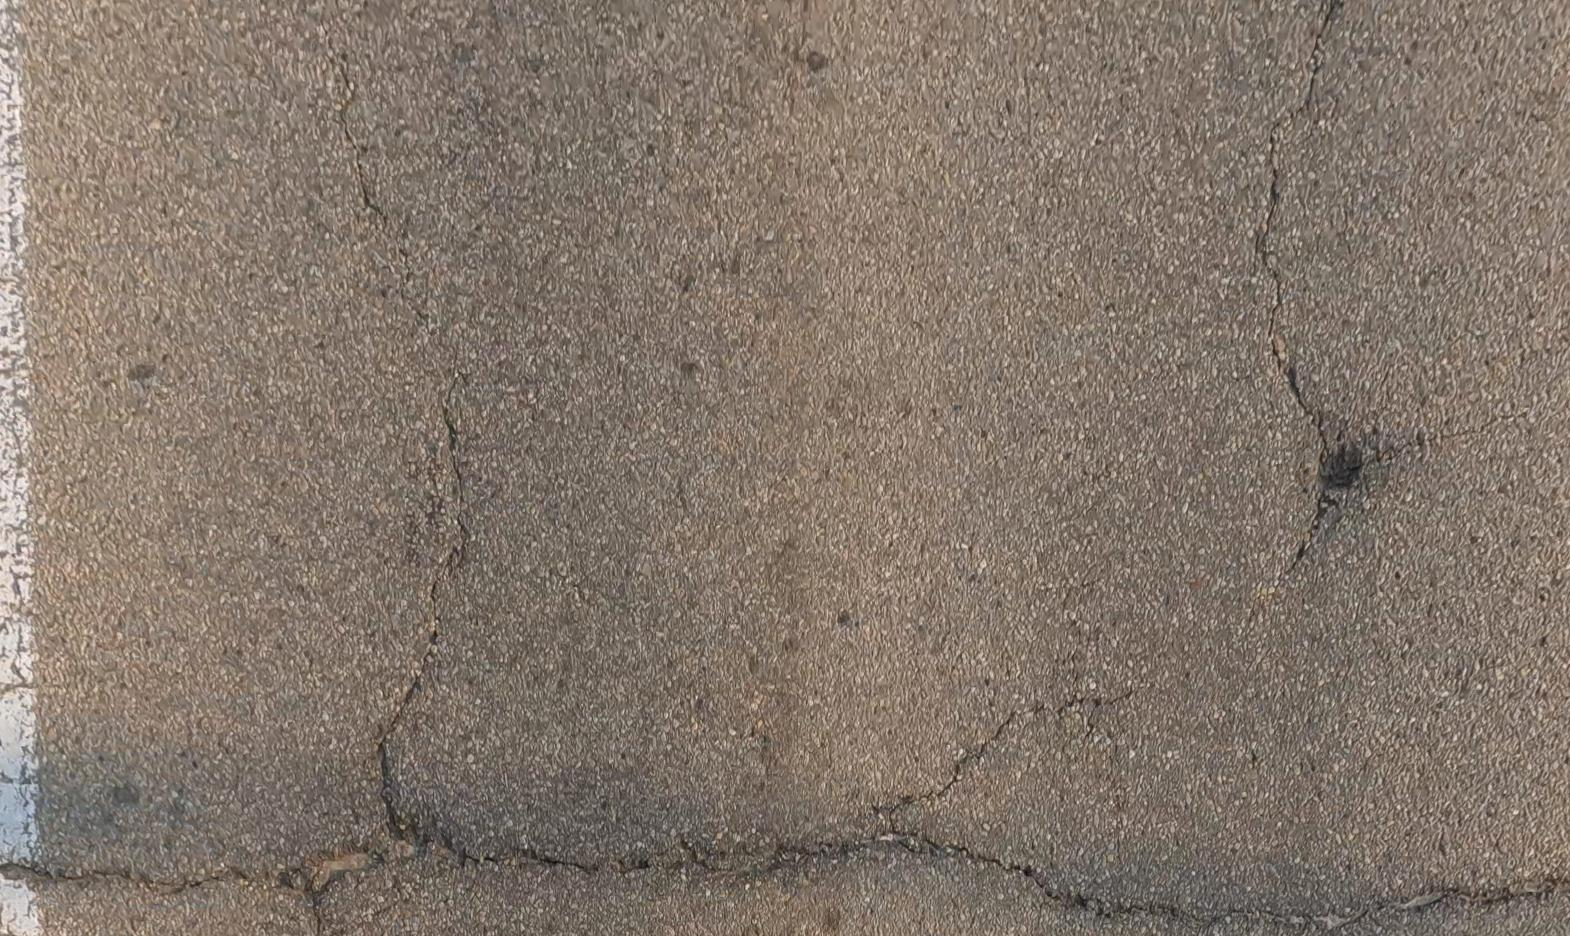pothole: (305, 825, 422, 891), (1322, 442, 1365, 491)
